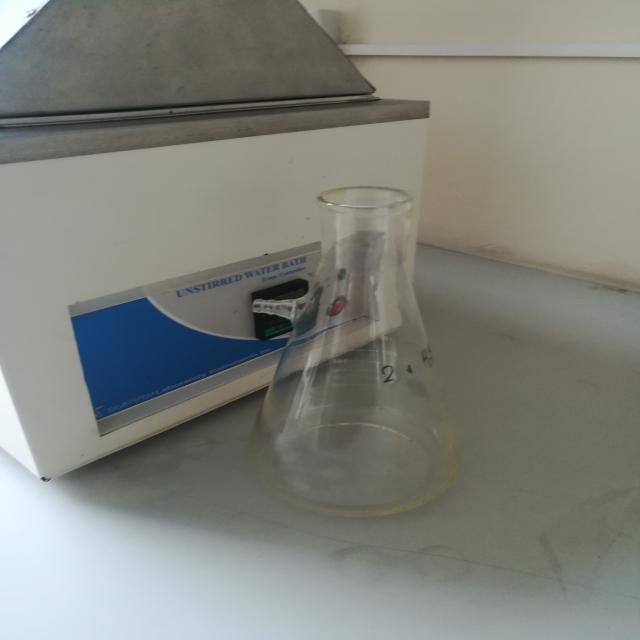Conical_Flask: (220, 141, 512, 548)
